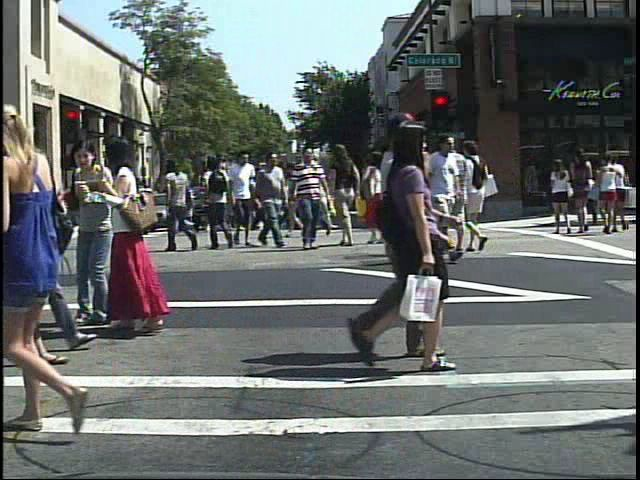person: (339, 116, 462, 381), (13, 86, 91, 444), (104, 133, 196, 343), (390, 105, 442, 366), (69, 134, 113, 336), (420, 130, 471, 257), (426, 130, 472, 262), (457, 134, 500, 262), (285, 144, 333, 254), (327, 139, 370, 252), (253, 145, 291, 255), (161, 151, 198, 256), (202, 152, 240, 254), (362, 145, 399, 249), (224, 149, 260, 254), (550, 152, 577, 237), (198, 169, 219, 238), (65, 182, 86, 232)
